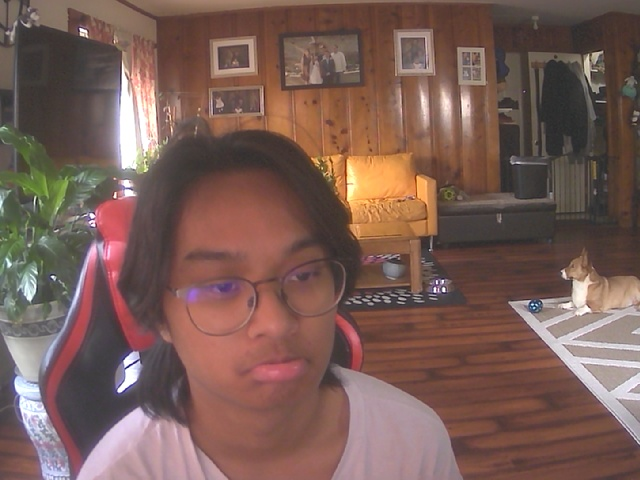sad: (143, 152, 356, 417)
